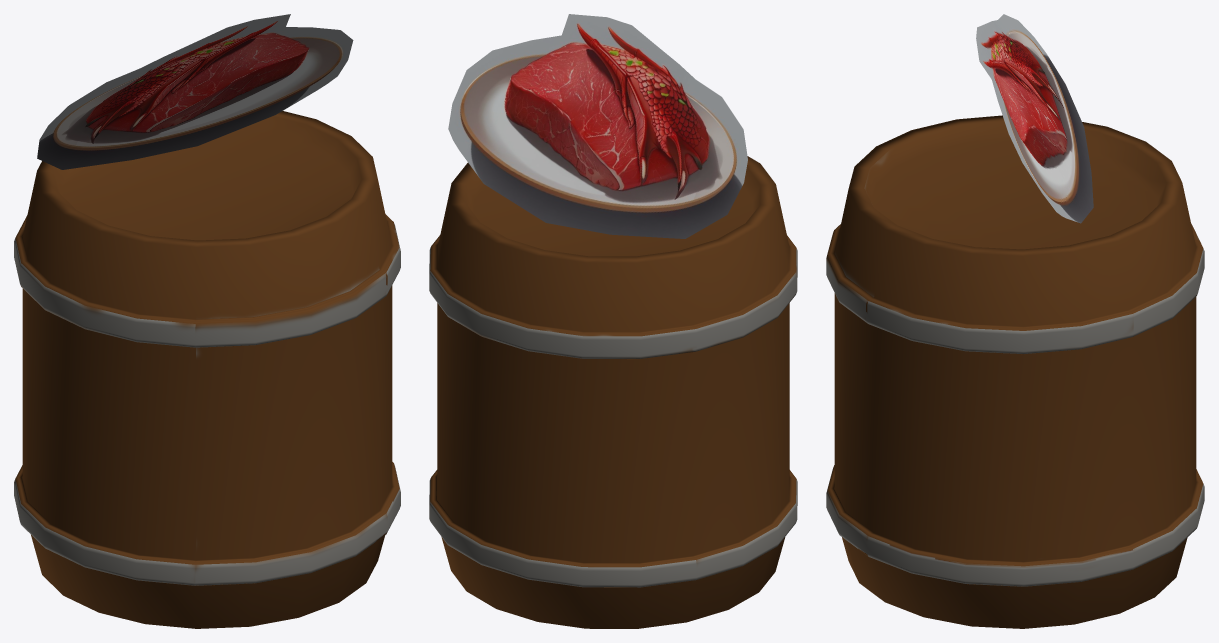
File: Ingredientes_1_PechugadeDragon.fbx
The picture shows the model from 3 angles, left to right: view 1: azimuth 30°, elevation 25°; view 2: azimuth 150°, elevation 25°; view 3: azimuth 270°, elevation 25°; orthographic projection. The views are drawn at different scales.
Visible parts, largest first — view 1: Barril_mesh, MK_Ingredientes_1_PechugadeDragon.001; view 2: Barril_mesh, MK_Ingredientes_1_PechugadeDragon.001; view 3: Barril_mesh, MK_Ingredientes_1_PechugadeDragon.001.
Part boxes in pixels (left/top/right/bottom): Barril_mesh: left=14, top=111, right=400, bottom=628; MK_Ingredientes_1_PechugadeDragon.001: left=37, top=14, right=353, bottom=169; Barril_mesh: left=429, top=156, right=797, bottom=628; MK_Ingredientes_1_PechugadeDragon.001: left=448, top=14, right=747, bottom=238; Barril_mesh: left=826, top=115, right=1204, bottom=628; MK_Ingredientes_1_PechugadeDragon.001: left=976, top=14, right=1093, bottom=223.
Bounding box in the file's own units: 1.84 × 2.86 × 1.84.
2 materials, 2 textured.
